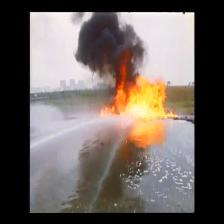fire: (113, 79, 165, 136)
smoke: (78, 16, 141, 64)
